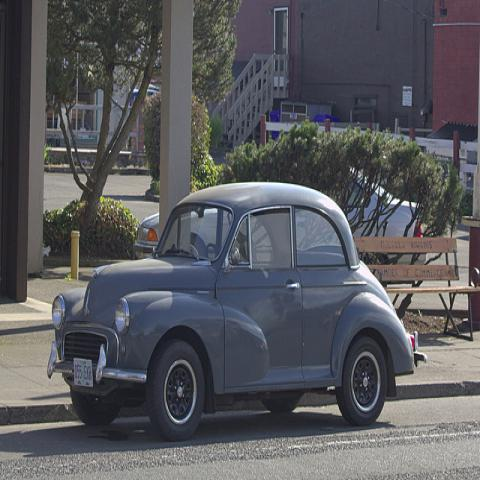car: (48, 181, 428, 442), (344, 164, 426, 267)
